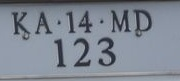character: (96, 36, 116, 67), (72, 37, 92, 66), (11, 10, 31, 35), (132, 8, 153, 31), (111, 8, 131, 32), (34, 11, 53, 34), (53, 37, 67, 67), (77, 10, 94, 33), (65, 10, 77, 33)
